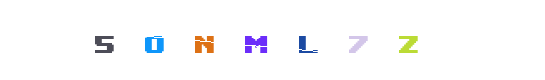0: (141, 0, 221, 80)
5: (114, 0, 194, 80)
7: (296, 0, 376, 80)
L: (233, 0, 313, 80)
M: (216, 0, 296, 80)
N: (164, 0, 244, 80)
Z: (367, 0, 447, 80)
